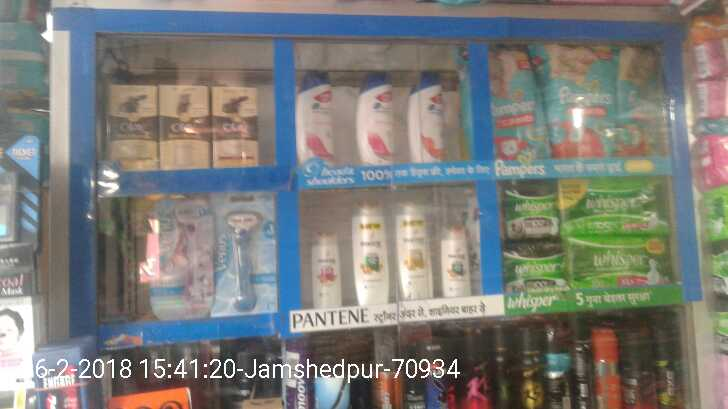venus: (150, 193, 214, 313), (214, 191, 271, 313)
